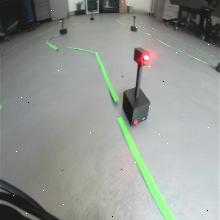red: (133, 47, 150, 67)
